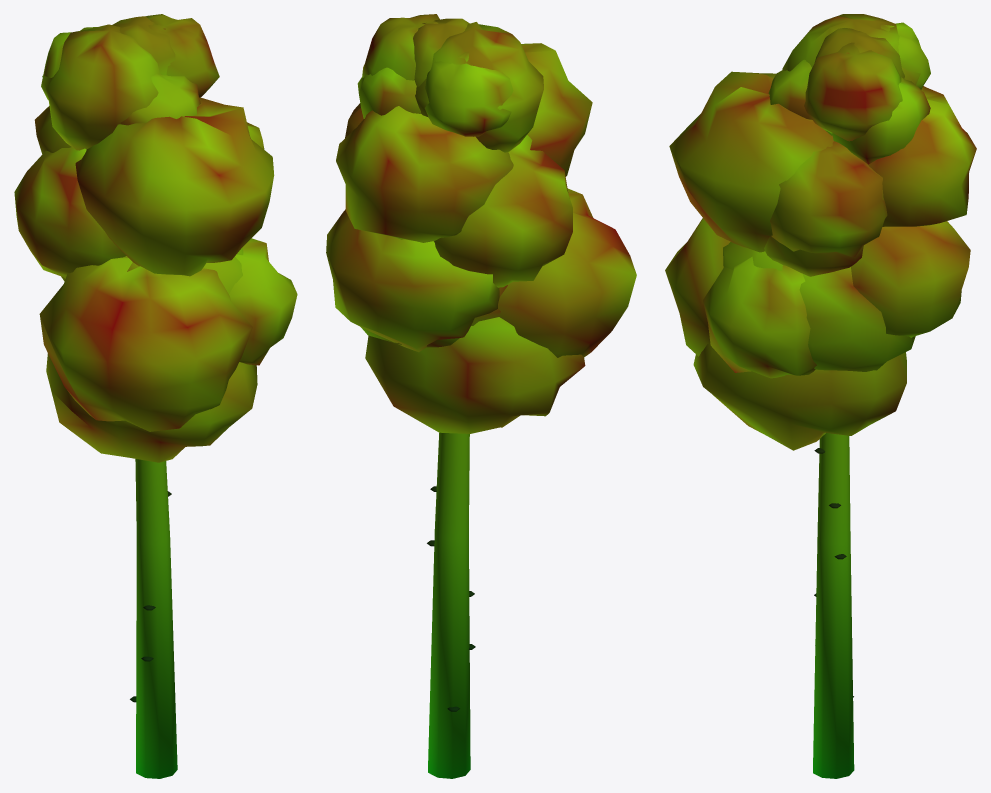
File: tree_birch_a.glb
The picture shows the model from 3 angles, left to right: view 1: azimuth 30°, elevation 25°; view 2: azimuth 150°, elevation 25°; view 3: azimuth 270°, elevation 25°; orthographic projection. The views are drawn at different scales.
Visible parts, largest first — view 1: tree_birch_a; view 2: tree_birch_a; view 3: tree_birch_a.
Part boxes in pixels (<box>): tree_birch_a: <box>14,14,297,778</box>; tree_birch_a: <box>326,14,636,778</box>; tree_birch_a: <box>665,14,976,778</box>.
Size of what is drawn, in the model's own units: 2.57 by 7.61 by 2.93.
